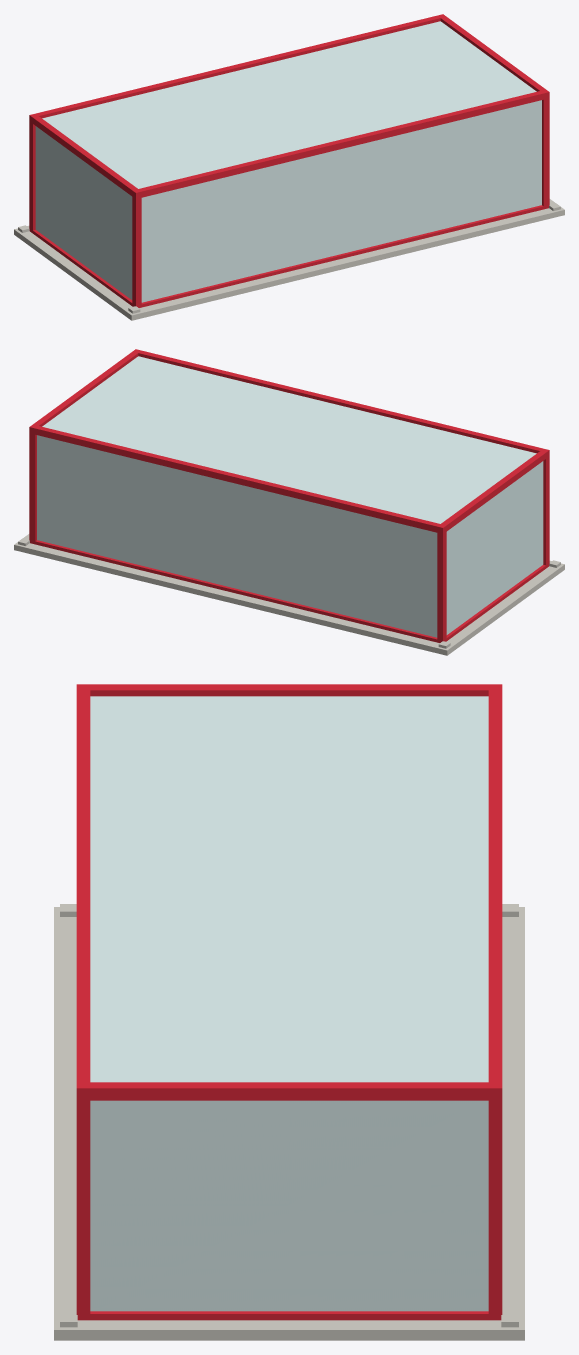
File: pagani-senna.glb
3 renders of one model, top to bottom at view 1: azimuth 30°, elevation 25°; view 2: azimuth 150°, elevation 25°; view 3: azimuth 270°, elevation 25°, orthographic. The views are drawn at different scales.
Size of the model in its own units: 0.51 by 0.1365 by 0.24.
